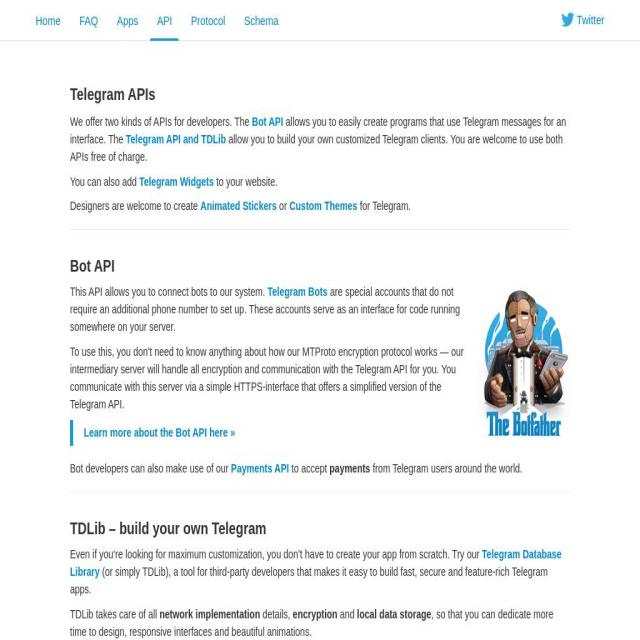follow-options: (550, 7, 608, 33)
navigation-links: (29, 5, 290, 40)
